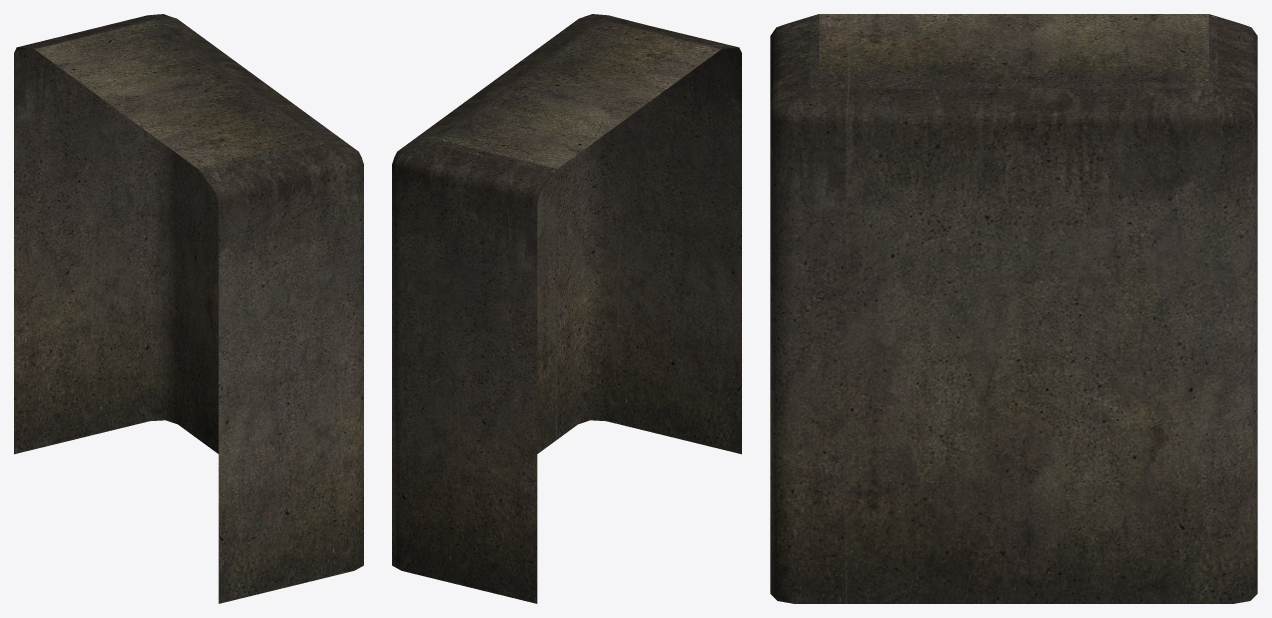
File: wall_base_pillar.fbx
3 renders of one model, left to right at view 1: azimuth 30°, elevation 25°; view 2: azimuth 150°, elevation 25°; view 3: azimuth 270°, elevation 25°, orthographic. The views are drawn at different scales.
Visible parts, largest first — view 1: wall_base_pillar; view 2: wall_base_pillar; view 3: wall_base_pillar.
Boxes of the visible parts, x1,y1,x2,y2 form: wall_base_pillar: (14, 14, 363, 603); wall_base_pillar: (392, 14, 741, 603); wall_base_pillar: (770, 14, 1257, 603).
Bounding box in the file's own units: 0.26 × 0.68 × 0.6.
